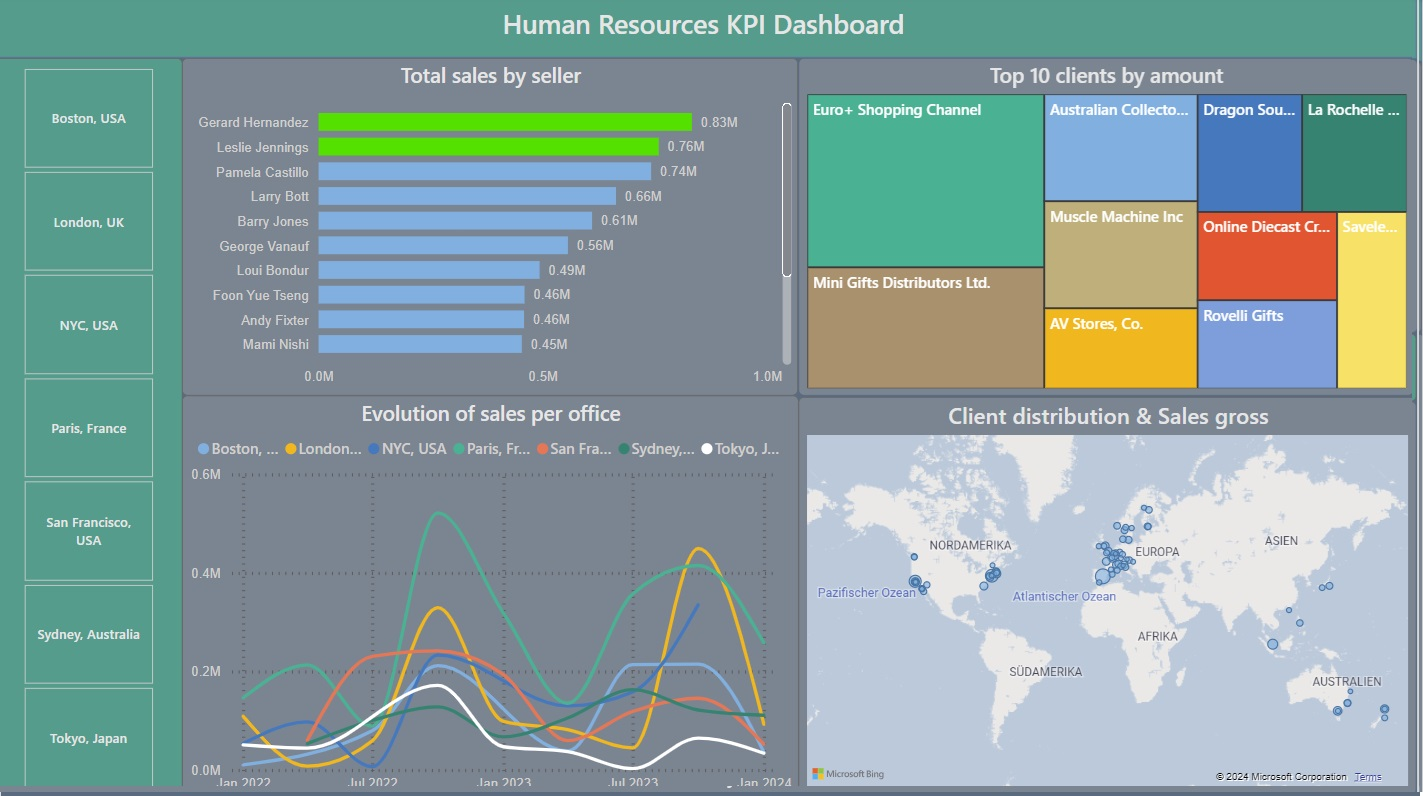

The page's visual inventory and layout, read from the dashboard file:
{"tool":"powerbi","page":{"name":"H.RESOURCES","canvas":[1280,720],"ordinal":4},"visuals":[{"type":"shape","box":[0,0,1280,56.2],"z":0},{"type":"lineChart","title":"Evolution of sales per office","fields":{"Y":["evolution.amount"],"Category":["evolution.paymentDate.Variation.Hiérarchie de dates.Année","evolution.paymentDate.Variation.Hiérarchie de dates.Trimestre"],"Series":["evolution.bureau"]},"box":[170,361.2,555,366.2],"z":1000},{"type":"slicer","title":"Bureau","fields":{"Values":["evolution.bureau"]},"box":[0,56.3,170.4,664.8],"z":2000},{"type":"map","title":"Client distribution & Sales gross ","fields":{"Category":["locations.client_location"],"Size":["locations.amount"]},"box":[725,361.7,556.7,360],"z":3000},{"type":"barChart","title":"Total sales by seller","fields":{"Category":["evolution.full_name"],"Y":["evolution.amount"]},"box":[170.4,56.3,554.9,304.2],"z":4000},{"type":"textbox","title":"Human Resources KPI Dashboard","box":[448.8,10,382.5,37.5],"z":5000},{"type":"treemap","title":"Top 10 clients by amount","fields":{"Details":["RH_2.customerName"],"Values":["RH_2.amount"]},"box":[725,56.2,553.8,303.8],"z":6000}]}

Visuals, with their boxes in screenshot pixels (x1, y1, x2, y2), scaled from the page's 1280x720 canvas onto the 1423x796 screenshot:
shape: Rect(0, 0, 1422, 62)
"Evolution of sales per office" lineChart: Rect(189, 399, 806, 795)
"Bureau" slicer: Rect(0, 62, 189, 795)
"Client distribution & Sales gross " map: Rect(806, 400, 1422, 795)
"Total sales by seller" barChart: Rect(189, 62, 806, 399)
"Human Resources KPI Dashboard" textbox: Rect(499, 11, 924, 53)
"Top 10 clients by amount" treemap: Rect(806, 62, 1422, 398)
